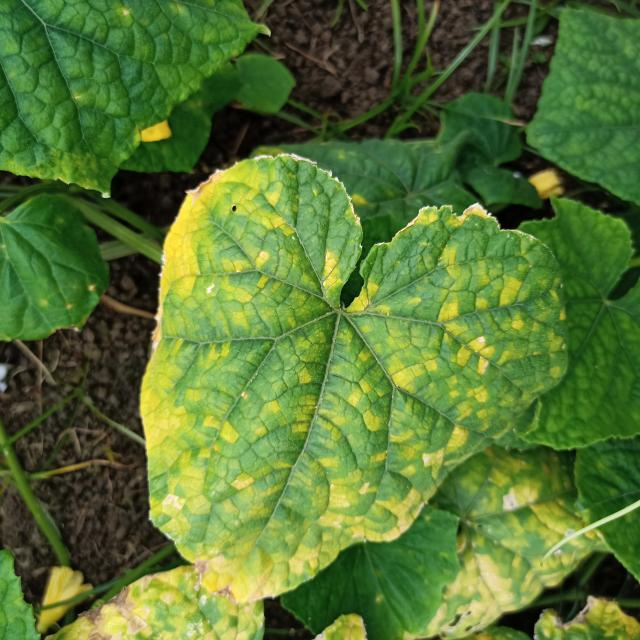disease_cucumber: (138, 155, 567, 596)
